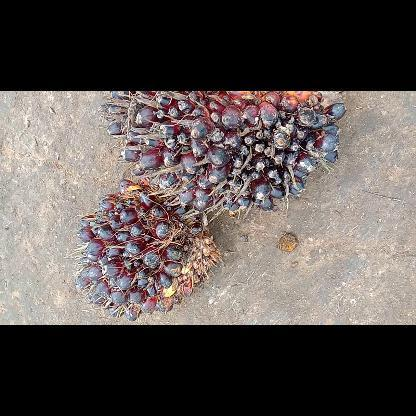TBS mentah: (103, 90, 343, 214), (73, 178, 221, 322)
